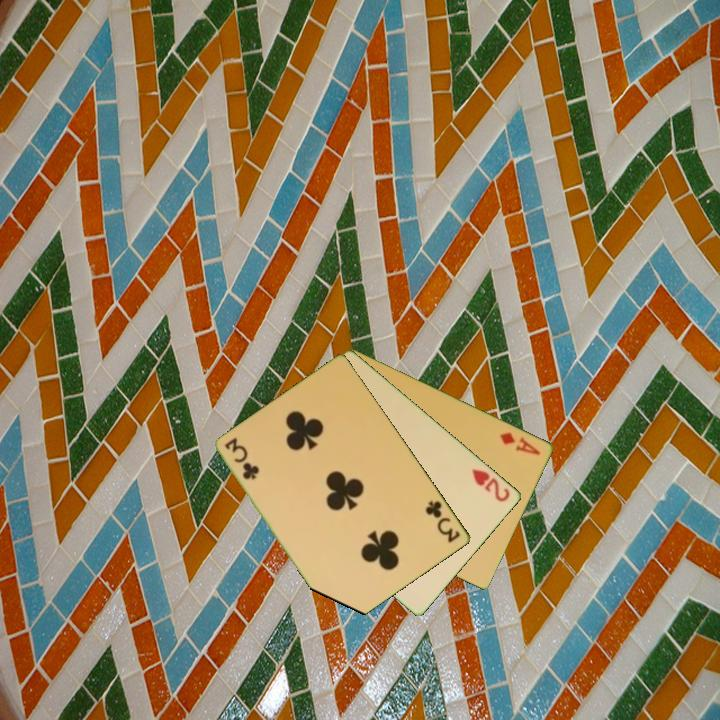2h: (468, 465, 513, 505)
3c: (422, 497, 464, 546), (221, 435, 261, 483)
Ad: (497, 428, 544, 458)
